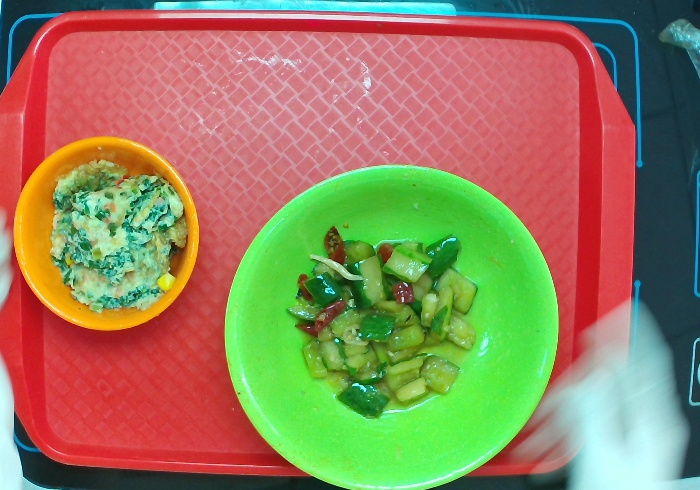YKMZ-Ju_Se_Yuan_Wan: (11, 136, 203, 333)
YKMZ-Lv_Se_Tang_Wan: (223, 164, 562, 490)
